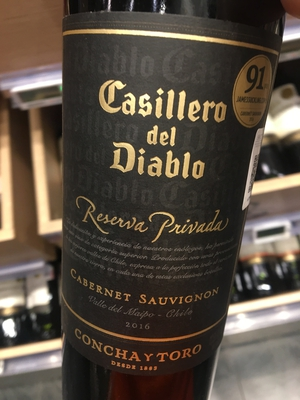casillero del diablo reserva privada cabernet sauvignon: (50, 1, 286, 386)
